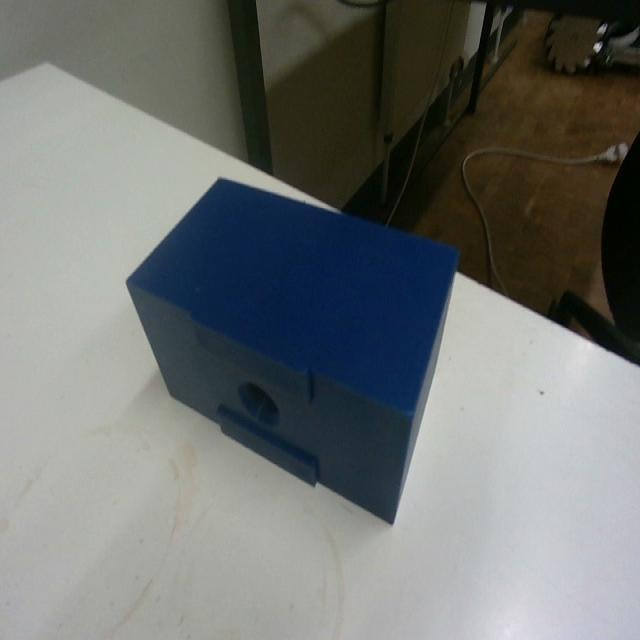Blue Cuboid: (123, 172, 461, 525)
